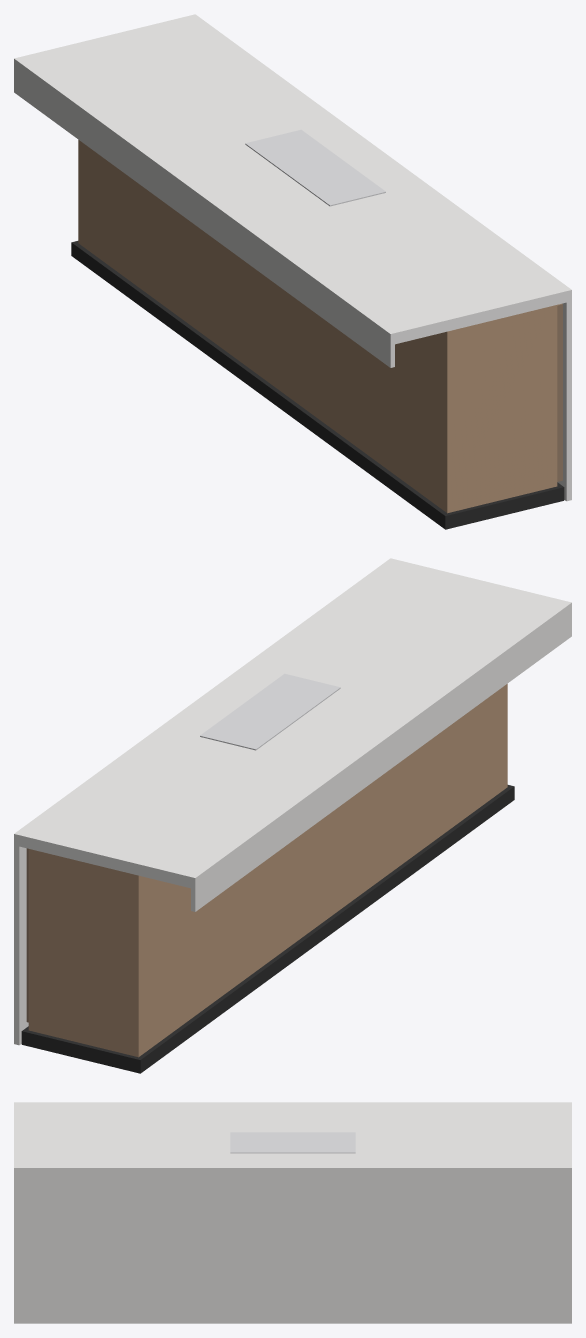
The model's file is SM_KitchenIsland.fbx.
The picture shows the model from 3 angles, top to bottom: view 1: azimuth 30°, elevation 25°; view 2: azimuth 150°, elevation 25°; view 3: azimuth 270°, elevation 25°; orthographic projection. The views are drawn at different scales.
Parts seen in each view (by area): view 1: SM_KitchenIsland; view 2: SM_KitchenIsland; view 3: SM_KitchenIsland.
Boxes of the visible parts, left/top/right/bottom form: SM_KitchenIsland: left=14, top=14, right=571, bottom=529; SM_KitchenIsland: left=14, top=558, right=571, bottom=1073; SM_KitchenIsland: left=14, top=1102, right=571, bottom=1323.
Size of the model in its own units: 84 by 93.5 by 302.
